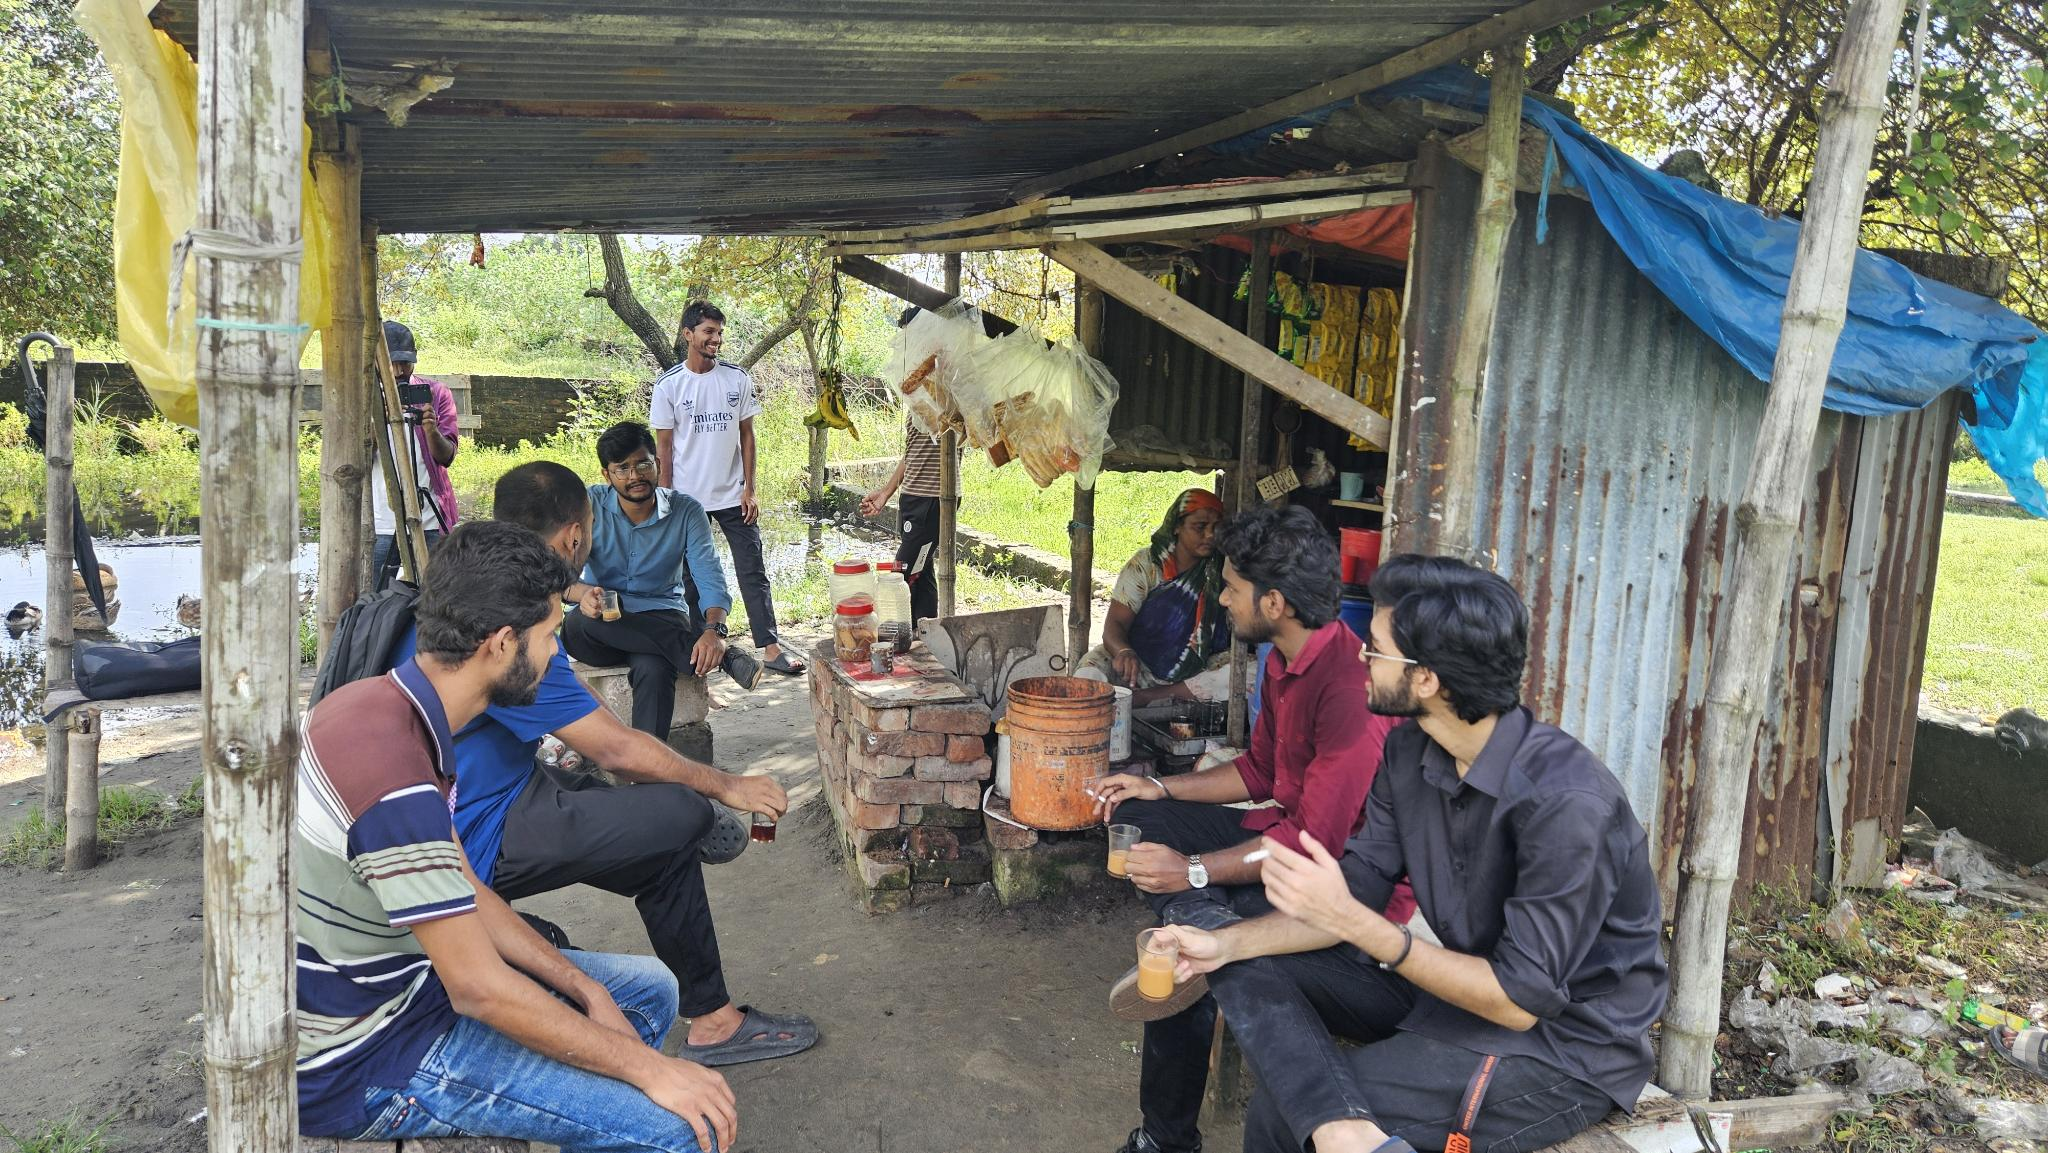cigarette: (1239, 845, 1277, 868), (1083, 786, 1108, 807)
nonSmoker: (297, 515, 737, 1153), (459, 460, 821, 1071), (567, 419, 769, 731), (650, 301, 809, 676), (1072, 489, 1229, 706)
smoker: (1138, 560, 1663, 1153), (1082, 509, 1394, 925)
